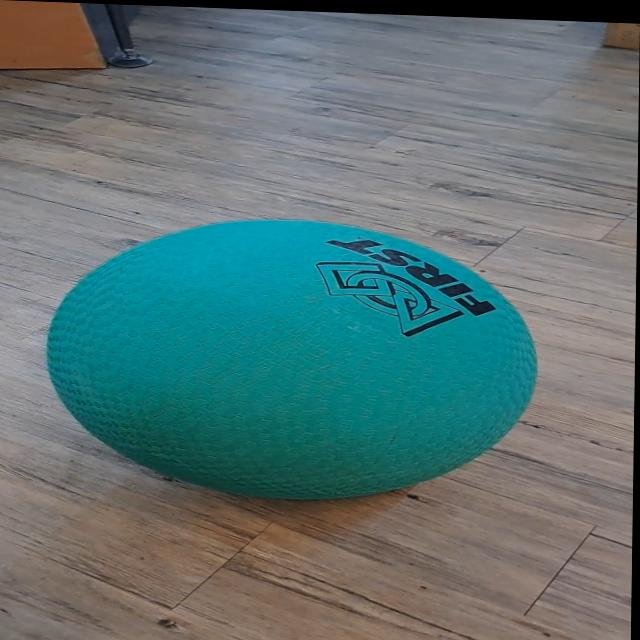ALGAE: (42, 208, 541, 510)
